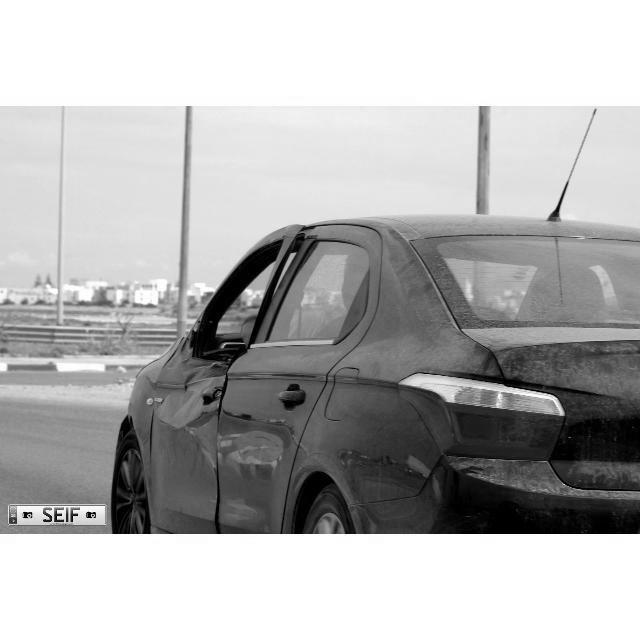doorouter-dent: (138, 346, 221, 494)
